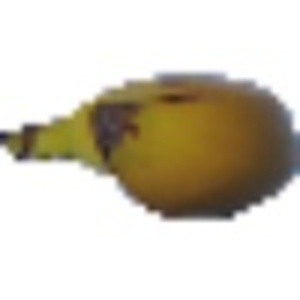banana: (5, 60, 295, 217)
